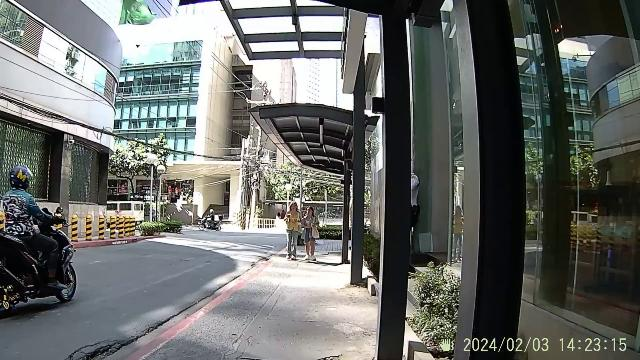lamp_post: (146, 152, 158, 222), (154, 163, 168, 215)
potted_plant: (404, 257, 458, 359)
